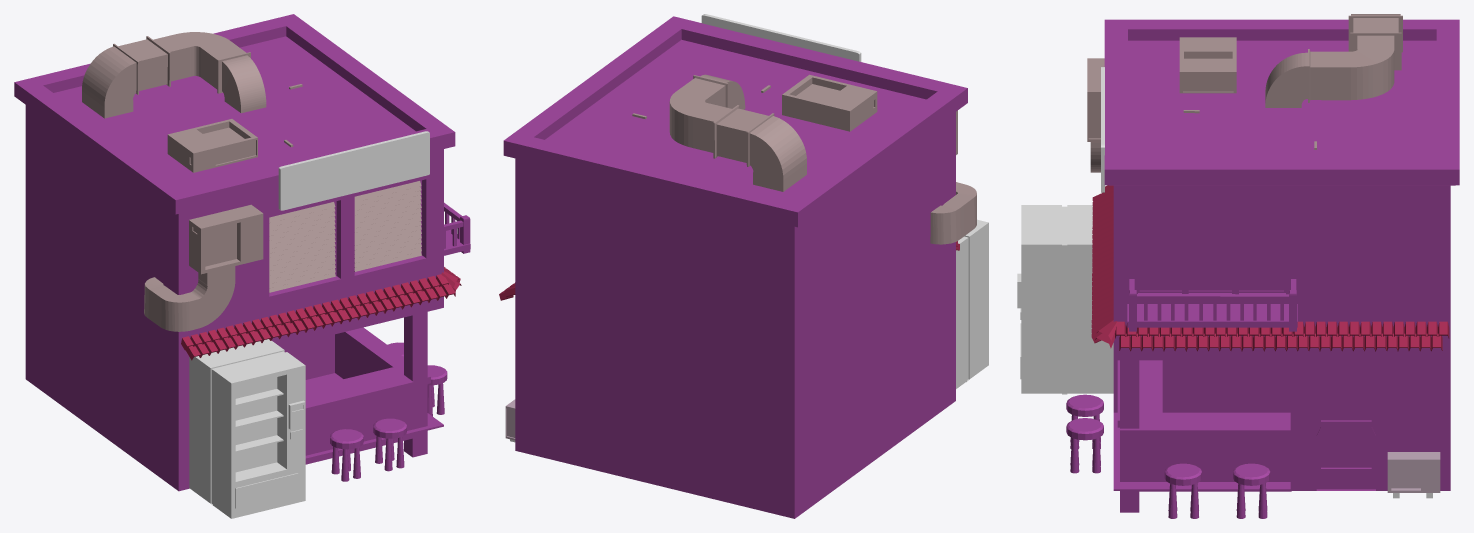
Rendered from store harjotus värjätty.fbx.
The picture shows the model from 3 angles, left to right: view 1: azimuth 30°, elevation 25°; view 2: azimuth 150°, elevation 25°; view 3: azimuth 270°, elevation 25°; orthographic projection. The views are drawn at different scales.
Visible parts, largest first — view 1: main building, Cube.008, Cube.016, Cube.006, Cube.015, Cube.049, Cube.047, Cube.048, Cube.017, Plane.003, Plane.002, Cube.005 (+3 smaller); view 2: main building, Cube.016, Cube.008, Cube.017, Cube.015, Cube.049; view 3: main building, Cube.008, Cube.006, Cube.016, Plane.001, Plane, Cube.017, Cube.027, Cube.005, Cube.020, Plane.002, Cube.015 (+10 smaller).
Boxes of the visible parts, x1,y1,x2,y2 form: main building: (14,14,455,491); Cube.008: (189,339,305,518); Cube.016: (82,32,266,118); Cube.006: (305,327,430,464); Cube.015: (144,204,263,331); Cube.049: (278,131,429,210); Cube.047: (354,181,421,271); Cube.048: (269,202,335,292); Cube.017: (167,119,257,172); Plane.003: (185,283,455,360); Plane.002: (181,274,448,349); Cube.005: (404,312,427,457); main building: (503,16,967,518); Cube.016: (669,74,806,191); Cube.008: (956,219,988,388); Cube.017: (782,74,877,131); Cube.015: (930,110,976,244); Cube.049: (701,14,861,61); main building: (1104,19,1459,490); Cube.008: (1021,205,1113,394); Cube.006: (1117,360,1291,491); Cube.016: (1265,14,1402,107); Plane.001: (1119,333,1442,351); Plane: (1115,321,1449,338); Cube.017: (1179,37,1236,93); Cube.027: (1127,304,1297,327); Cube.005: (1120,360,1139,512); Cube.020: (1387,452,1440,492); Plane.002: (1101,185,1113,328); Cube.015: (1087,58,1104,172).
Size of the model in its own units: 834 by 911 by 919.
